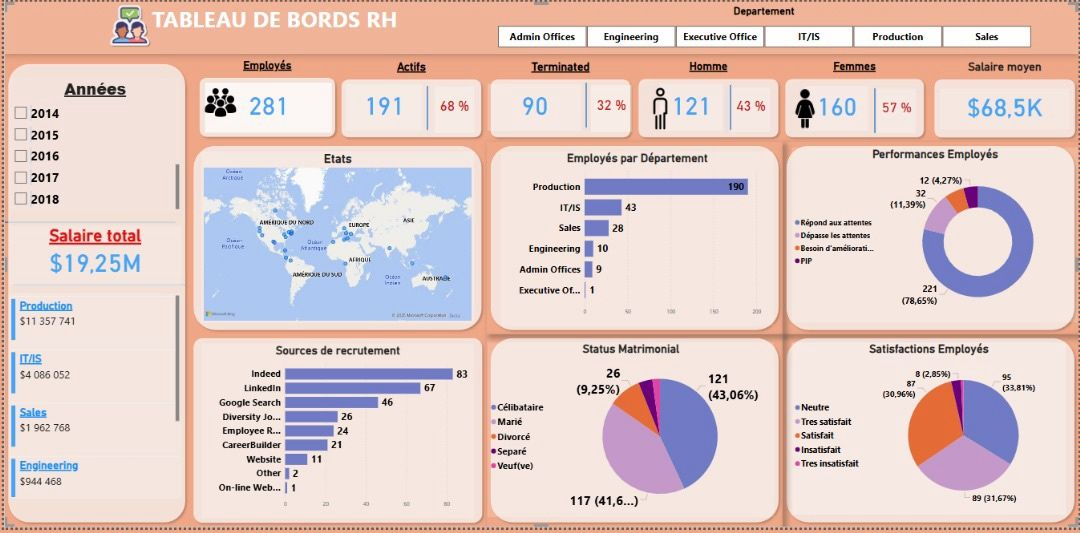

What the dashboard file says about the page in this screenshot:
{"tool":"powerbi","page":{"name":"Tableau de bords","canvas":[2351,1150],"ordinal":0},"visuals":[{"type":"group","id":"g1","title":"Groupe 5","box":[0,0,2350,115],"z":0,"group":"g6"},{"type":"textbox","box":[0,0,2350,115],"z":0,"group":"g1"},{"type":"group","id":"g2","title":"Groupe 1","box":[416.2,127.5,315,180],"z":0,"group":"g3"},{"type":"shape","title":"Salaire moyen","box":[2026.3,128.9,326.3,178.9],"z":0,"group":"g7"},{"type":"shape","box":[0,129.7,405.4,1021.6],"z":0,"group":"g16"},{"type":"shape","title":"Homme","box":[1378.4,129.7,324.3,178.4],"z":0,"group":"g4"},{"type":"shape","box":[916.2,191.9,21.6,97.3],"z":0},{"type":"image","box":[186.8,0,176.3,107.9],"z":1000,"group":"g6"},{"type":"slicer","title":"Departement","fields":{"Values":["HRData.Département"]},"box":[1055,7.5,1215,100],"z":1000,"group":"g1"},{"type":"group","id":"g3","title":"Groupe 2","box":[19.8,127.5,711.4,516.2],"z":1000,"group":"g7"},{"type":"shape","title":"Terminated","box":[1054.1,129.7,324.3,178.4],"z":1000,"group":"g9"},{"type":"image","box":[432.8,176,78.3,96.7],"z":1000,"group":"g3"},{"type":"card","fields":{"Values":["table.homme"]},"box":[1434.1,181.8,137.8,102.7],"z":1000,"group":"g17"},{"type":"shape","box":[1262.2,183.8,21.6,97.3],"z":1000},{"type":"shape","title":"Employés","box":[416.2,127.5,315,180],"z":2000,"group":"g2"},{"type":"shape","title":"Actifs","box":[729.7,129.7,324.3,178.4],"z":2000,"group":"g8"},{"type":"group","id":"g4","title":"Groupe 3","box":[1378.4,129.7,324.3,178.4],"z":2000,"group":"g7"},{"type":"card","fields":{"Values":["table.%homme"]},"box":[1591.9,189.2,83.8,97.3],"z":2000,"group":"g17"},{"type":"shape","box":[1570.3,191.9,21.6,97.3],"z":2000},{"type":"group","id":"g5","title":"Groupe 4","box":[1700,130,322.5,177.5],"z":3000,"group":"g7"},{"type":"image","box":[1383.8,181.1,102.7,108.1],"z":3000,"group":"g17"},{"type":"shape","box":[1894.6,191.9,21.6,97.3],"z":3000},{"type":"shape","box":[405,730,650,422.5],"z":3000,"group":"g15"},{"type":"group","id":"g6","title":"Groupe 6","box":[0,0,2350,115],"z":4000,"group":"g7"},{"type":"shape","box":[0,462.5,375,42.5],"z":4000},{"type":"shape","box":[1054.1,729.7,648.6,421.6],"z":4000,"group":"g14"},{"type":"group","id":"g7","title":"Groupe 18","box":[0,0,2352.6,1152.5],"z":5000},{"type":"group","id":"g8","title":"Groupe 7","box":[729.7,129.7,324.3,178.4],"z":5000,"group":"g7"},{"type":"shape","title":"Femmes","box":[1700,130,321.6,178.4],"z":5000,"group":"g5"},{"type":"shape","box":[1702.7,729.7,648.6,421.6],"z":5000,"group":"g13"},{"type":"group","id":"g9","title":"Groupe 8","box":[1054.1,129.7,324.3,178.4],"z":6000,"group":"g7"},{"type":"card","fields":{"Values":["Avg(HRData.Salaires)"]},"box":[2047.4,192.1,284.2,89.5],"z":6000},{"type":"shape","box":[405.4,308.1,648.6,421.6],"z":6000,"group":"g18"},{"type":"shape","box":[1213.2,178.9,121.1,97.4],"z":7000},{"type":"group","id":"g10","title":"Groupe 10","box":[1054.1,308.1,648.6,421.6],"z":7000,"group":"g7"},{"type":"shape","box":[1054.1,308.1,648.6,421.6],"z":7000,"group":"g10"},{"type":"shape","box":[865.8,186.8,121.1,94.7],"z":8000},{"type":"group","id":"g11","title":"Groupe 11","box":[405.4,308.1,648.6,421.6],"z":8000,"group":"g7"},{"type":"shape","box":[1702.7,308.1,648.6,421.6],"z":8000,"group":"g12"},{"type":"shape","box":[1528.9,184.2,121.1,97.4],"z":9000},{"type":"group","id":"g12","title":"Groupe 12","box":[1702.7,308.1,648.6,421.6],"z":9000,"group":"g7"},{"type":"card","fields":{"Values":["table.nbrEmployé"]},"box":[437.6,179.3,277.6,109.1],"z":9007,"group":"g2"},{"type":"shape","box":[1844.7,192.1,121.1,97.4],"z":10000},{"type":"group","id":"g13","title":"Groupe 13","box":[1702.7,729.7,648.6,421.6],"z":10000,"group":"g7"},{"type":"card","fields":{"Values":["table.Emp_en_activité"]},"box":[748.6,181.1,167.6,102.7],"z":11000,"group":"g8"},{"type":"group","id":"g14","title":"Groupe 14","box":[1054.1,729.7,648.6,421.6],"z":11000,"group":"g7"},{"type":"card","fields":{"Values":["table.Emp_fin_contrat"]},"box":[1056.8,181.1,205.4,102.7],"z":12000,"group":"g9"},{"type":"group","id":"g15","title":"Groupe 15","box":[405,730,650,422.5],"z":12000,"group":"g7"},{"type":"group","id":"g16","title":"Groupe 17","box":[0,129.7,405.4,1021.6],"z":13000,"group":"g7"},{"type":"card","fields":{"Values":["table.%en_activité"]},"box":[943.2,186.5,86.5,102.7],"z":13000,"group":"g8"},{"type":"card","fields":{"Values":["table.%fin_contrat"]},"box":[1283.8,183.8,89.2,102.7],"z":15000,"group":"g9"},{"type":"card","fields":{"Values":["table.femme"]},"box":[1751.4,186.8,137.8,97.3],"z":21000,"group":"g5"},{"type":"map","title":" Etats","fields":{"Category":["HRData.Etats"]},"box":[432.4,329.7,597.3,375.7],"z":21000,"group":"g18"},{"type":"barChart","title":"Sources de recrutement","fields":{"Category":["HRData.Source de Recrutement"],"Y":["CountNonNull(HRData.Nom Employés)"]},"box":[432.5,750,597.5,382.5],"z":22000,"group":"g15"},{"type":"barChart","title":"Employés par Département","fields":{"Category":["HRData.Département"],"Y":["CountNonNull(HRData.Nom Employés)"]},"box":[1085,330,597.5,382.5],"z":23000,"group":"g10"},{"type":"card","fields":{"Values":["table.%femme"]},"box":[1910.8,192.2,83.8,97.3],"z":24000,"group":"g5"},{"type":"pieChart","title":"Status Matrimonial","fields":{"Category":["HRData.Status Matrimonial"],"Y":["table.nbrEmployé"]},"box":[1057.5,747.5,627.5,382.5],"z":24000,"group":"g14"},{"type":"pieChart","title":"Performances Employés","fields":{"Category":["HRData.Score Performance"],"Y":["table.nbrEmployé"]},"box":[1722.5,322.5,627.5,382.5],"z":25000,"group":"g12"},{"type":"image","box":[1700,181.4,102.7,108.1],"z":25001,"group":"g5"},{"type":"pieChart","title":"Satisfactions Employés","fields":{"Category":["HRData.Satisfaction Employés"],"Y":["table.nbrEmployé"]},"box":[1722.5,747.5,600,377.5],"z":26000,"group":"g13"},{"type":"card","title":"Salaire total","fields":{"Values":["Sum(HRData.Salaires)"]},"box":[10,492.5,377.5,130],"z":27000,"group":"g16"},{"type":"multiRowCard","title":"Salaire total","fields":{"Values":["Sum(HRData.Salaires)","HRData.Département"]},"box":[10,640,377.5,450],"z":28000,"group":"g16"},{"type":"shape","box":[19.8,601.3,375,42.5],"z":28001,"group":"g3"},{"type":"slicer","title":"Années","fields":{"Values":["HRData.DateEmbauche.Variation.Hiérarchie de dates.Année"]},"box":[10,170,377.5,292.5],"z":30000,"group":"g16"},{"type":"group","id":"g17","title":"Groupe 9","box":[1383.8,181.1,291.9,108.1],"z":31005,"group":"g4"},{"type":"group","id":"g18","title":"Groupe 16","box":[405.4,308.1,648.6,421.6],"z":31011,"group":"g11"}]}

Visuals, with their boxes in screenshot pixels (x1, y1, x2, y2), scaled from the page's 2351x1150 canvas onto the 1080x533 screenshot:
"Groupe 5" group: x1=0, y1=0, x2=1079, y2=53
textbox: x1=0, y1=0, x2=1079, y2=53
"Groupe 1" group: x1=191, y1=59, x2=336, y2=143
"Salaire moyen" shape: x1=931, y1=60, x2=1079, y2=143
shape: x1=0, y1=60, x2=186, y2=532
"Homme" shape: x1=633, y1=60, x2=782, y2=143
shape: x1=421, y1=89, x2=431, y2=134
image: x1=86, y1=0, x2=167, y2=50
"Departement" slicer: x1=485, y1=3, x2=1043, y2=50
"Groupe 2" group: x1=9, y1=59, x2=336, y2=298
"Terminated" shape: x1=484, y1=60, x2=633, y2=143
image: x1=199, y1=82, x2=235, y2=126
card - table.homme: x1=659, y1=84, x2=722, y2=132
shape: x1=580, y1=85, x2=590, y2=130
"Employés" shape: x1=191, y1=59, x2=336, y2=143
"Actifs" shape: x1=335, y1=60, x2=484, y2=143
"Groupe 3" group: x1=633, y1=60, x2=782, y2=143
card - table.%homme: x1=731, y1=88, x2=770, y2=133
shape: x1=721, y1=89, x2=731, y2=134
"Groupe 4" group: x1=781, y1=60, x2=929, y2=143
image: x1=636, y1=84, x2=683, y2=134
shape: x1=870, y1=89, x2=880, y2=134
shape: x1=186, y1=338, x2=485, y2=532
"Groupe 6" group: x1=0, y1=0, x2=1079, y2=53
shape: x1=0, y1=214, x2=172, y2=234
shape: x1=484, y1=338, x2=782, y2=532
"Groupe 18" group: x1=0, y1=0, x2=1079, y2=532
"Groupe 7" group: x1=335, y1=60, x2=484, y2=143
"Femmes" shape: x1=781, y1=60, x2=929, y2=143
shape: x1=782, y1=338, x2=1079, y2=532
"Groupe 8" group: x1=484, y1=60, x2=633, y2=143
card - Avg(HRData.Salaires): x1=941, y1=89, x2=1071, y2=131
shape: x1=186, y1=143, x2=484, y2=338
shape: x1=557, y1=83, x2=613, y2=128
"Groupe 10" group: x1=484, y1=143, x2=782, y2=338
shape: x1=484, y1=143, x2=782, y2=338
shape: x1=398, y1=87, x2=453, y2=130
"Groupe 11" group: x1=186, y1=143, x2=484, y2=338
shape: x1=782, y1=143, x2=1079, y2=338
shape: x1=702, y1=85, x2=758, y2=131
"Groupe 12" group: x1=782, y1=143, x2=1079, y2=338
card - table.nbrEmployé: x1=201, y1=83, x2=329, y2=134
shape: x1=847, y1=89, x2=903, y2=134
"Groupe 13" group: x1=782, y1=338, x2=1079, y2=532
card - table.Emp_en_activité: x1=344, y1=84, x2=421, y2=132
"Groupe 14" group: x1=484, y1=338, x2=782, y2=532
card - table.Emp_fin_contrat: x1=485, y1=84, x2=580, y2=132
"Groupe 15" group: x1=186, y1=338, x2=485, y2=532
"Groupe 17" group: x1=0, y1=60, x2=186, y2=532
card - table.%en_activité: x1=433, y1=86, x2=473, y2=134
card - table.%fin_contrat: x1=590, y1=85, x2=631, y2=133
card - table.femme: x1=805, y1=87, x2=868, y2=132
" Etats" map: x1=199, y1=153, x2=473, y2=327
"Sources de recrutement" barChart: x1=199, y1=348, x2=473, y2=525
"Employés par Département" barChart: x1=498, y1=153, x2=773, y2=330
card - table.%femme: x1=878, y1=89, x2=916, y2=134
"Status Matrimonial" pieChart: x1=486, y1=346, x2=774, y2=524
"Performances Employés" pieChart: x1=791, y1=149, x2=1079, y2=327
image: x1=781, y1=84, x2=828, y2=134
"Satisfactions Employés" pieChart: x1=791, y1=346, x2=1067, y2=521
"Salaire total" card: x1=5, y1=228, x2=178, y2=289
"Salaire total" multiRowCard: x1=5, y1=297, x2=178, y2=505
shape: x1=9, y1=279, x2=181, y2=298
"Années" slicer: x1=5, y1=79, x2=178, y2=214
"Groupe 9" group: x1=636, y1=84, x2=770, y2=134
"Groupe 16" group: x1=186, y1=143, x2=484, y2=338
